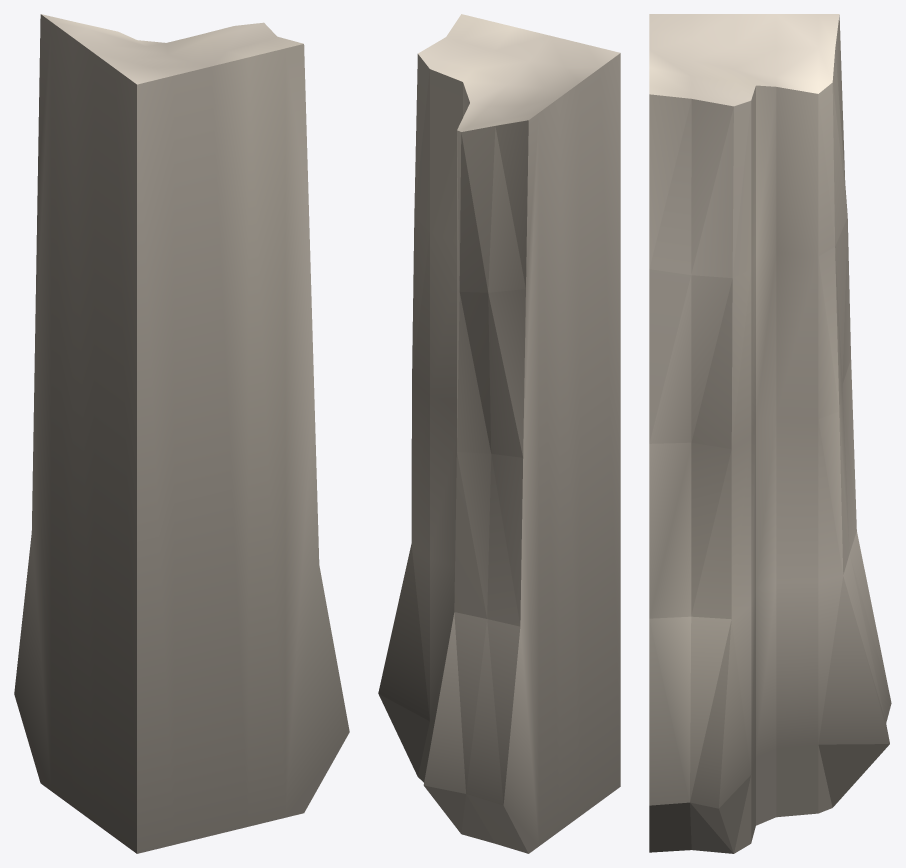
Rendered from SM_VKI_Rock_Cave_FOOO_WallN.fbx.
The picture shows the model from 3 angles, left to right: view 1: azimuth 30°, elevation 25°; view 2: azimuth 150°, elevation 25°; view 3: azimuth 270°, elevation 25°; orthographic projection. The views are drawn at different scales.
Parts seen in each view (by area): view 1: SM_VKI_Rock_Cave_FOOO_WallN.001; view 2: SM_VKI_Rock_Cave_FOOO_WallN.001; view 3: SM_VKI_Rock_Cave_FOOO_WallN.001.
Part boxes in pixels (left/top/right/bottom): SM_VKI_Rock_Cave_FOOO_WallN.001: left=14, top=14, right=349, bottom=853; SM_VKI_Rock_Cave_FOOO_WallN.001: left=378, top=14, right=620, bottom=853; SM_VKI_Rock_Cave_FOOO_WallN.001: left=649, top=14, right=891, bottom=853.
Bounding box in the file's own units: 0.9834 × 3.3 × 0.9549.
